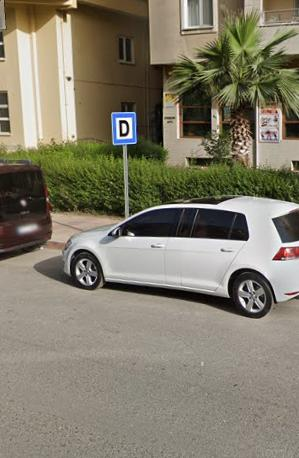station: (109, 109, 140, 147)
